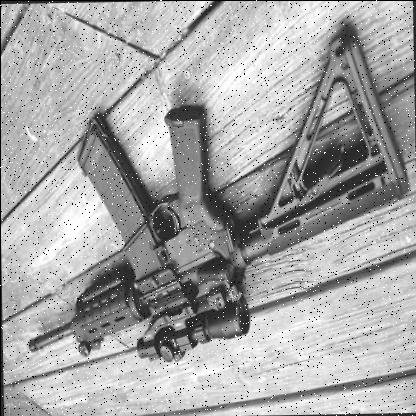rifle: (19, 34, 415, 390)
